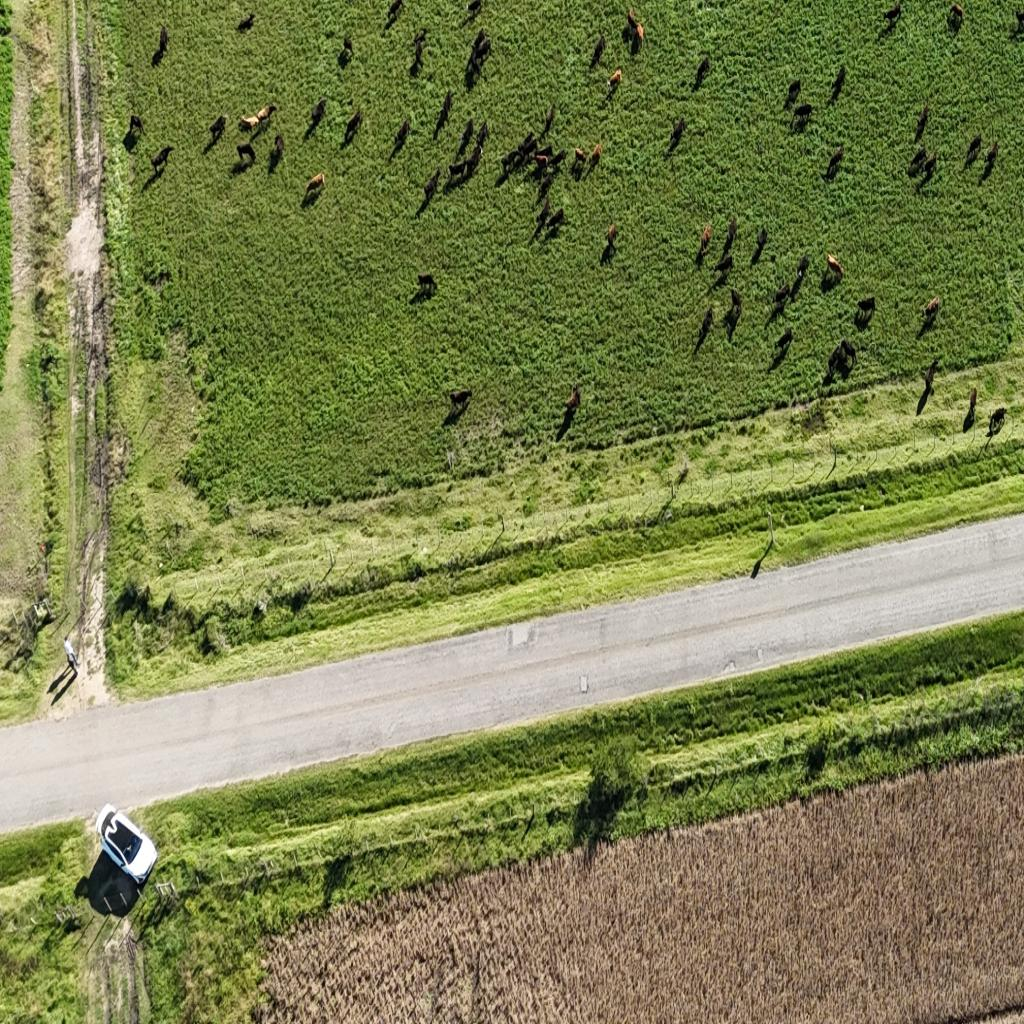cow: (918, 360, 940, 415), (509, 134, 536, 172), (238, 103, 268, 133), (150, 144, 174, 178), (498, 145, 522, 179), (695, 306, 713, 349), (391, 118, 410, 157), (342, 108, 362, 145), (464, 144, 483, 182), (308, 98, 328, 134), (837, 339, 857, 375), (698, 224, 715, 266), (981, 140, 1000, 177), (422, 167, 440, 206), (750, 226, 768, 264), (854, 297, 876, 328), (470, 28, 490, 62), (436, 90, 452, 132), (825, 252, 844, 287), (919, 296, 940, 327), (964, 388, 978, 432), (724, 298, 741, 334), (458, 118, 474, 156), (562, 384, 580, 417), (915, 103, 931, 140), (607, 66, 624, 100), (154, 23, 170, 59), (537, 174, 555, 206), (919, 153, 938, 183), (908, 145, 927, 175), (792, 103, 813, 130), (546, 148, 566, 176), (304, 171, 326, 196), (826, 147, 843, 179), (535, 198, 551, 232), (830, 66, 846, 100), (964, 134, 982, 164), (269, 133, 284, 169), (208, 114, 227, 142), (916, 310, 935, 338), (785, 78, 802, 109), (988, 407, 1006, 436), (545, 207, 565, 233), (448, 158, 468, 184), (604, 220, 618, 257), (774, 326, 793, 353), (773, 283, 792, 310), (590, 35, 606, 67), (694, 54, 710, 86), (532, 154, 550, 182), (126, 112, 143, 141), (449, 389, 471, 411), (417, 273, 437, 297), (948, 2, 964, 32), (571, 149, 587, 179), (236, 141, 256, 165), (790, 270, 805, 302), (466, 50, 480, 84), (715, 255, 734, 280), (884, 0, 902, 26), (1008, 5, 1023, 36), (411, 29, 427, 58), (385, 0, 403, 25), (475, 121, 489, 153), (823, 359, 838, 388), (535, 144, 554, 166), (543, 102, 555, 136), (727, 215, 739, 248), (796, 253, 810, 280), (672, 115, 686, 142), (730, 287, 743, 316), (236, 12, 254, 32), (630, 26, 642, 55), (410, 49, 423, 75), (589, 144, 602, 170), (622, 20, 634, 47), (466, 0, 482, 20), (341, 36, 353, 60), (1018, 6, 1024, 32)
